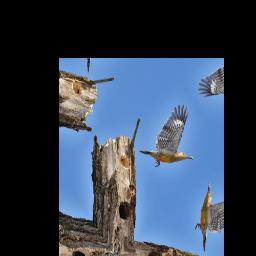Woodpecker: (135, 98, 211, 191)
